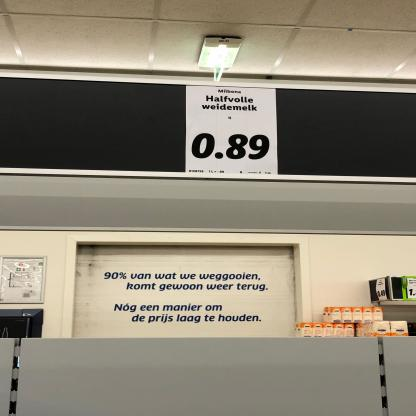prtg: (186, 86, 279, 176)
